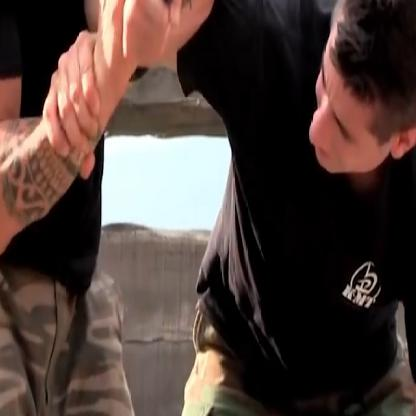knife: (129, 0, 206, 49)
